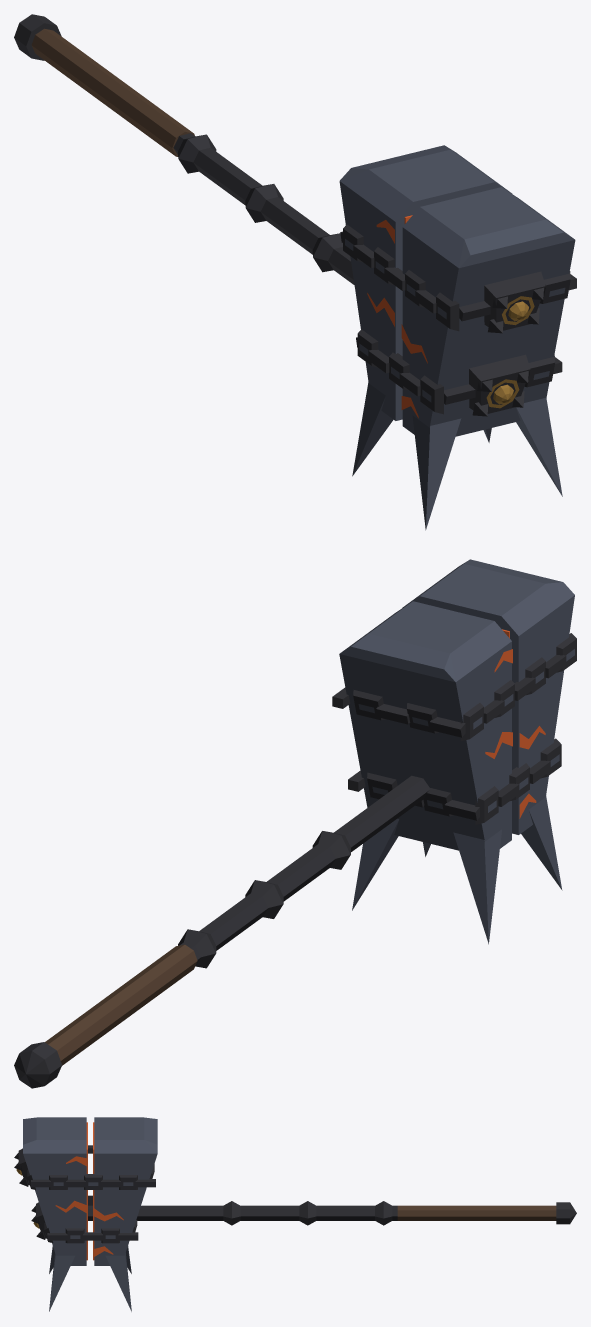
The model's file is Sealbreaker.fbx.
The picture shows the model from 3 angles, top to bottom: view 1: azimuth 30°, elevation 25°; view 2: azimuth 150°, elevation 25°; view 3: azimuth 270°, elevation 25°; orthographic projection. The views are drawn at different scales.
Visible parts, largest first — view 1: Sealbreaker; view 2: Sealbreaker; view 3: Sealbreaker.
Part boxes in pixels (x1,y1,x2,y2): Sealbreaker: [14, 14, 576, 530]; Sealbreaker: [14, 559, 576, 1088]; Sealbreaker: [14, 1117, 576, 1311].
Bounding box in the file's own units: 0.2584 × 0.5274 × 1.63.
